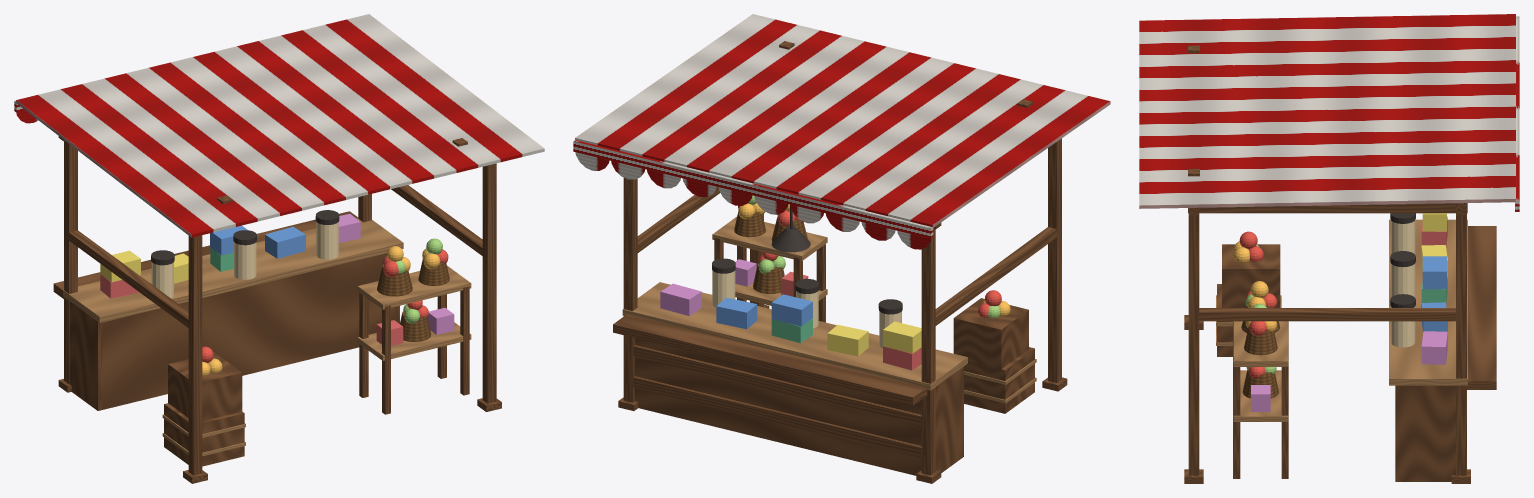
File: kios-merah-blender-v1.glb
The picture shows the model from 3 angles, left to right: view 1: azimuth 30°, elevation 25°; view 2: azimuth 150°, elevation 25°; view 3: azimuth 270°, elevation 25°; orthographic projection. The views are drawn at different scales.
Visible parts, largest first — view 1: kios_stripe, kios_wood, kios_goods, kios_top, kios_rattan; view 2: kios_stripe, kios_wood, kios_goods, kios_top, kios_rattan, kios_lamp; view 3: kios_stripe, kios_wood, kios_goods, kios_top, kios_rattan.
Boxes of the visible parts, <box> form: kios_stripe: <box>14,14,544,237</box>; kios_wood: <box>53,136,501,483</box>; kios_goods: <box>100,210,454,375</box>; kios_top: <box>63,218,403,322</box>; kios_rattan: <box>377,258,449,341</box>; kios_stripe: <box>573,14,1110,249</box>; kios_wood: <box>613,41,1067,483</box>; kios_goods: <box>660,195,1010,370</box>; kios_top: <box>622,282,967,390</box>; kios_rattan: <box>734,212,807,293</box>; kios_lamp: <box>771,206,810,252</box>; kios_stripe: <box>1139,14,1519,211</box>; kios_wood: <box>1184,45,1496,483</box>; kios_goods: <box>1233,213,1447,411</box>; kios_top: <box>1389,219,1467,385</box>; kios_rattan: <box>1241,306,1280,398</box>.
Size of the model in its own units: 3.6 by 2.69 by 3.13.
Materials: 15 (4 with a texture image).
